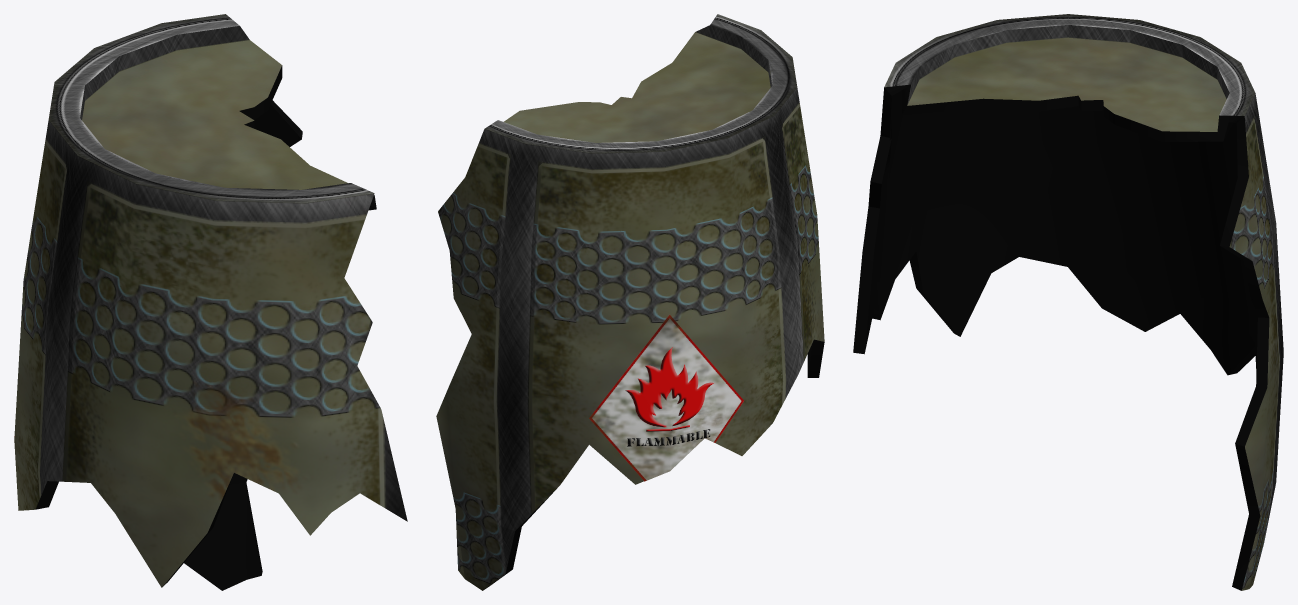
File: Barrel_Fire_Explode_5of5.FBX
3 views of the same model, side by side, from view 1: azimuth 30°, elevation 25°; view 2: azimuth 150°, elevation 25°; view 3: azimuth 270°, elevation 25° (orthographic). The views are drawn at different scales.
Visible parts, largest first — view 1: Barrel_Fire_Shard5; view 2: Barrel_Fire_Shard5; view 3: Barrel_Fire_Shard5.
Boxes of the visible parts, box(x1,y1,x2,y2) form: Barrel_Fire_Shard5: box(14, 14, 407, 590); Barrel_Fire_Shard5: box(436, 14, 824, 590); Barrel_Fire_Shard5: box(853, 14, 1283, 590).
Bounding box in the file's own units: 0.6508 × 0.8398 × 1.01.
1 material, 1 textured.
